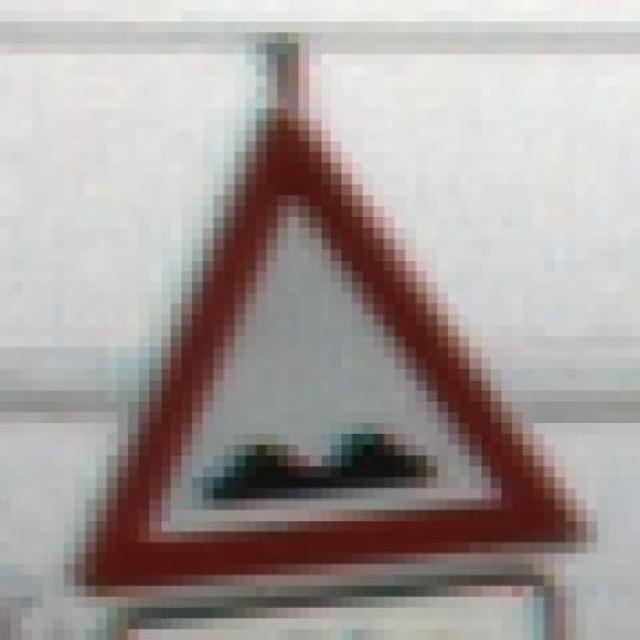Uneven Road: (75, 98, 598, 574)
